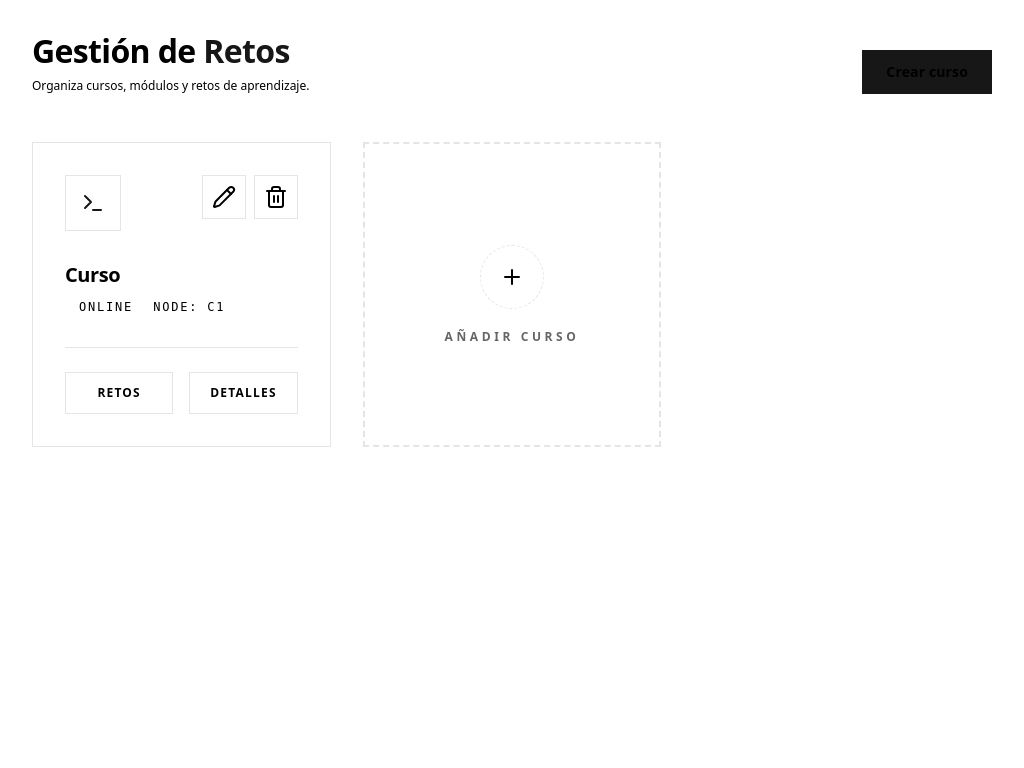
Test: Challenge editor contract › completes creation when the backend returns an empty 201 body
Click the button "Retos": (119, 393) [65,372,173,414]
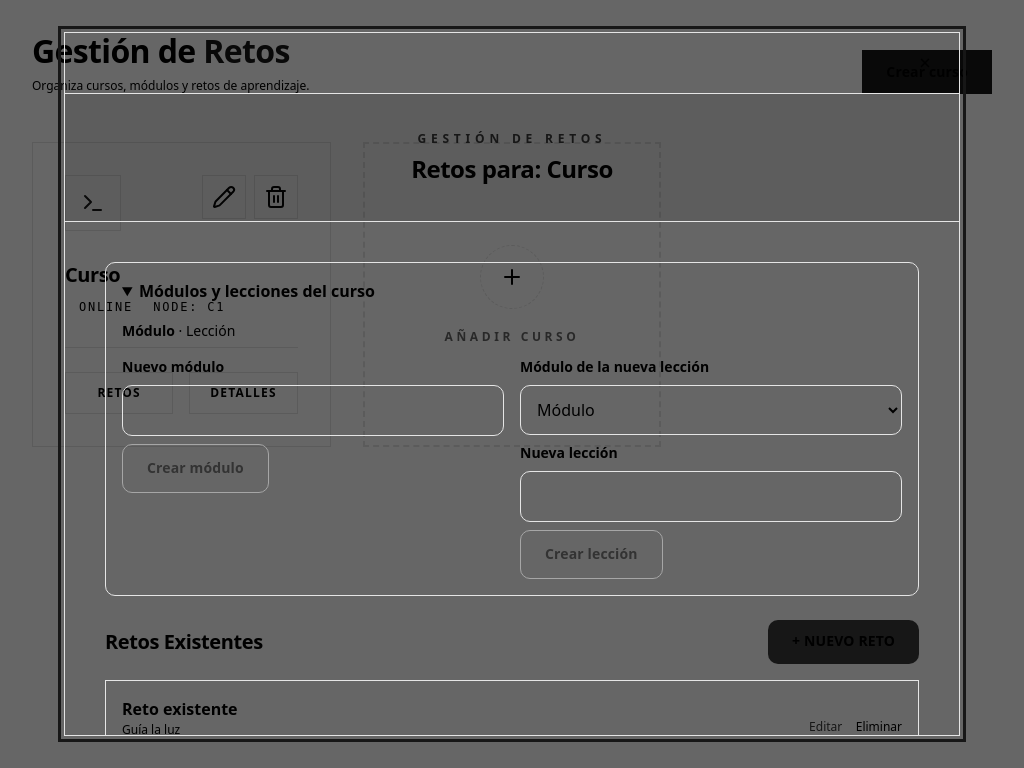
Now the text "Reto existente" is shown, box [122,698,238,720]
Click the button "+ Nuevo Reto": (844, 642) [768,620,919,664]
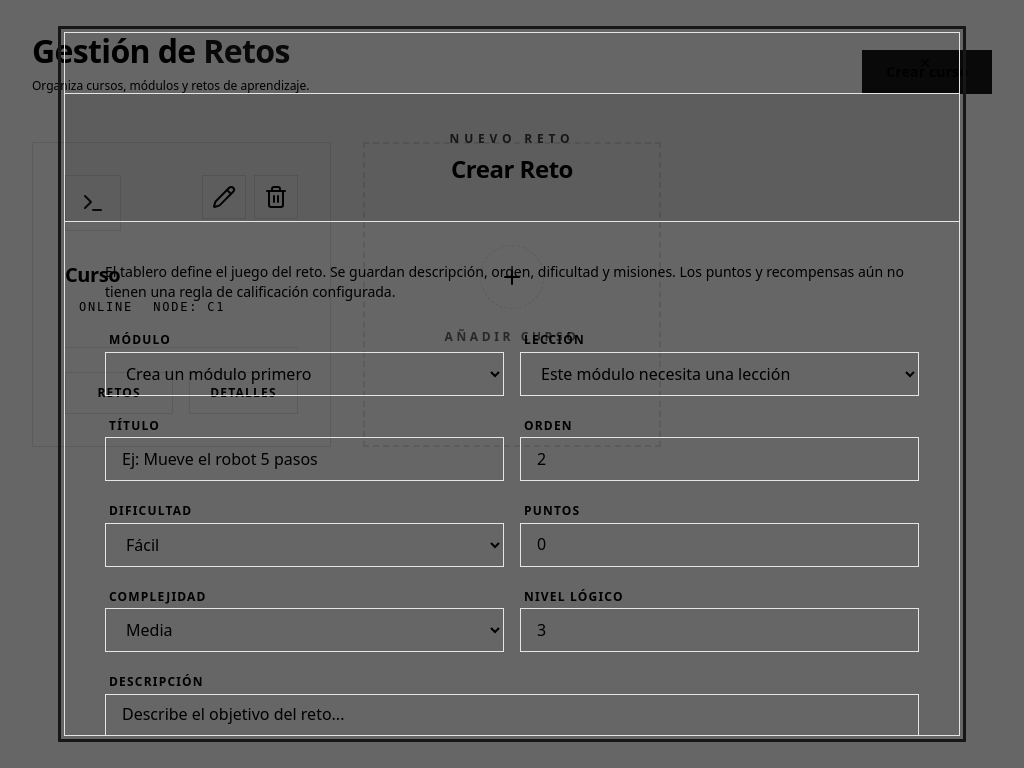
In the field labelled "Título": (304, 459) [105,437,504,481], type "Nuevo reto"
(page scrolled)
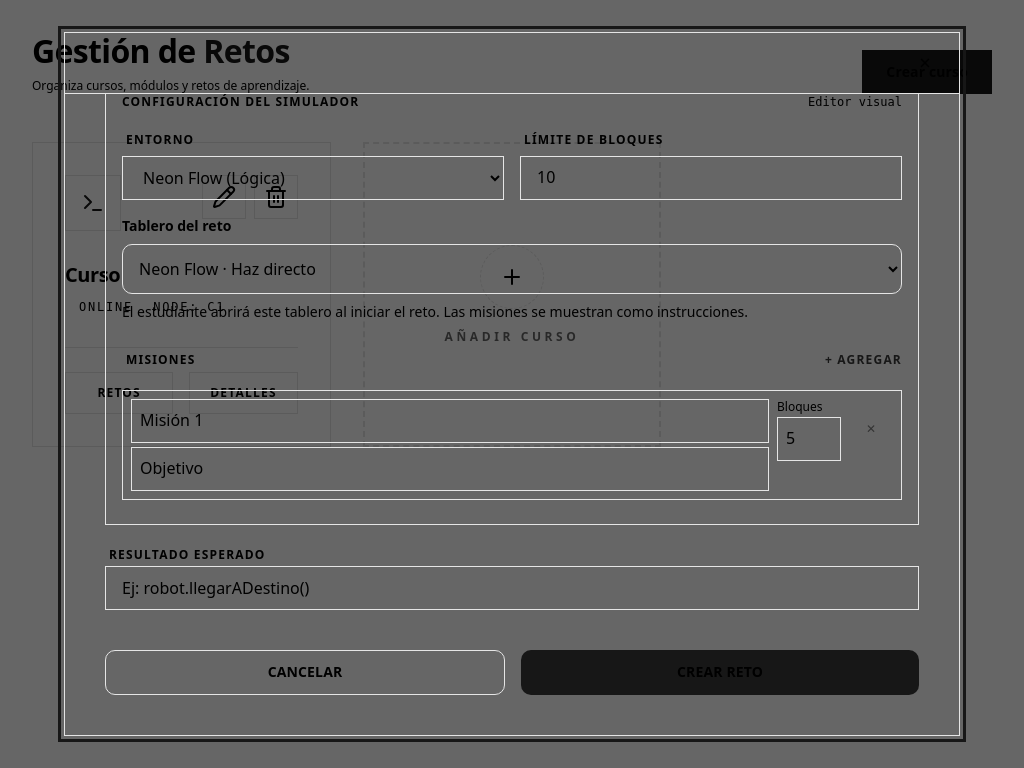
Click the button "CREAR RETO": (720, 673) [521,650,919,695]
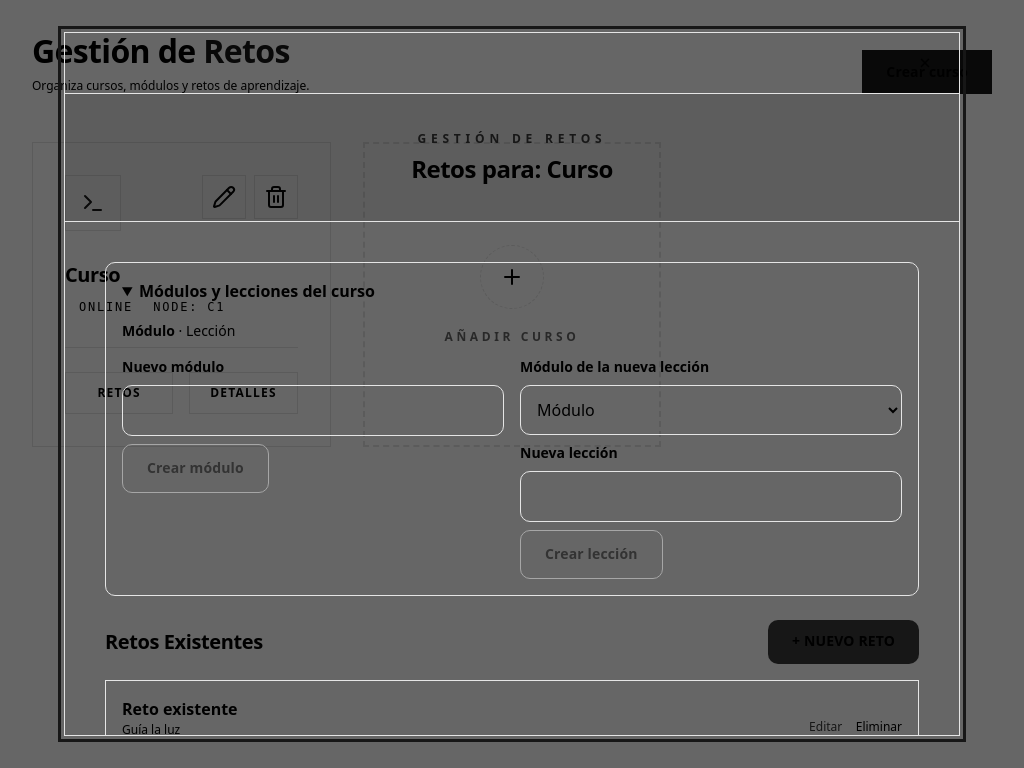
Now the heading "Retos Existentes" is shown, box [105,630,263,654]
